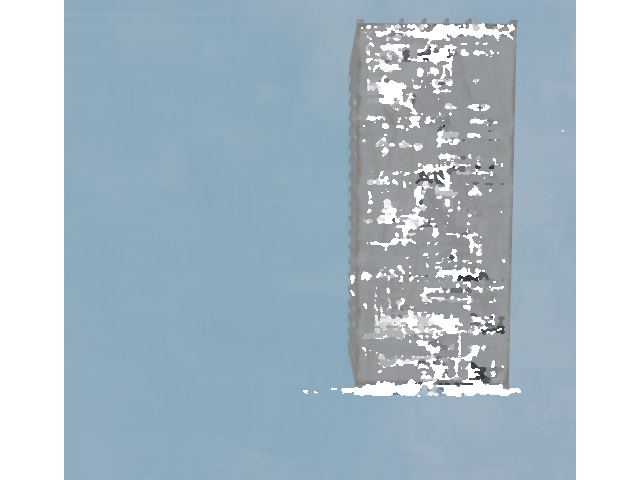container1: (345, 11, 521, 396)
